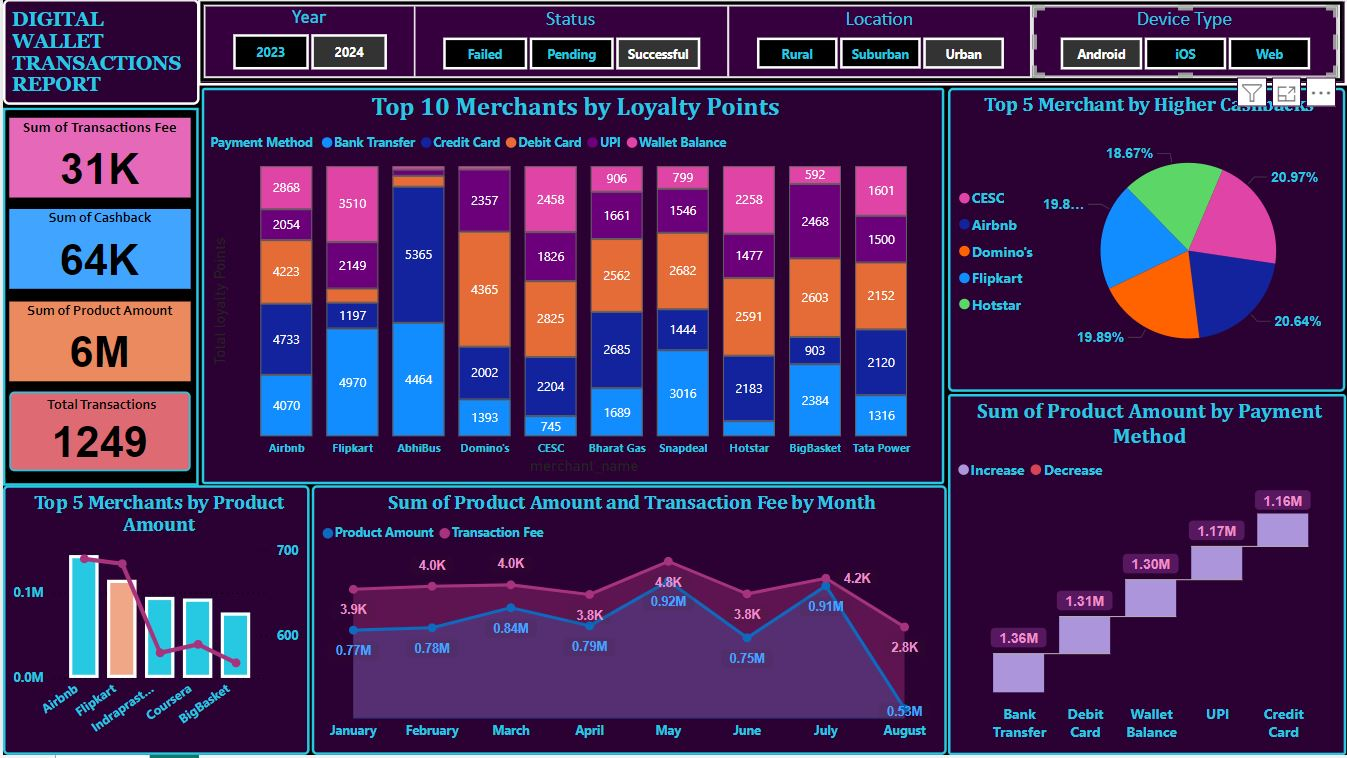

Layout of this report page (visuals, bound fields, positions):
{"tool":"powerbi","page":{"name":"Page 1","canvas":[1280,720],"ordinal":0},"visuals":[{"type":"shape","box":[0,103.3,186.2,360.2],"z":0},{"type":"shape","box":[185.8,0,1094.2,82],"z":1000},{"type":"slicer","title":"Year","fields":{"Values":["digital_wallet_transactions.transaction_date.Variation.Date Hierarchy.Year"]},"box":[192.9,7.1,198,66.7],"z":2000},{"type":"card","title":"Sum of Transactions Fee","fields":{"Values":["Sum(digital_wallet_transactions.transaction_fee)"]},"box":[6,113.1,172.6,76.2],"z":3000},{"type":"textbox","box":[0,0,187,101],"z":4000},{"type":"card","title":"Sum of Cashback","fields":{"Values":["Sum(digital_wallet_transactions.cashback)"]},"box":[5.4,199.8,172.6,76.1],"z":5000},{"type":"card","title":"Sum of Product Amount","fields":{"Values":["Sum(digital_wallet_transactions.product_amount)"]},"box":[5.4,288.1,172.6,76.1],"z":6000},{"type":"slicer","title":"Device Type","fields":{"Values":["digital_wallet_transactions.device_type"]},"box":[981,7.1,289.3,66.7],"z":7000},{"type":"slicer","title":"Location","fields":{"Values":["digital_wallet_transactions.location"]},"box":[691.8,6.8,286.8,66.6],"z":8000},{"type":"slicer","title":"Status","fields":{"Values":["digital_wallet_transactions.transaction_status"]},"box":[392.9,7.1,296.4,66.7],"z":9000},{"type":"lineStackedColumnComboChart","title":"Top 5 Merchants by Product Amount","fields":{"Category":["digital_wallet_transactions.merchant_name"],"Y":["Sum(digital_wallet_transactions.product_amount)"],"Y2":["Sum(digital_wallet_transactions.transaction_fee)"]},"box":[0,463.5,292.2,256.9],"z":10000},{"type":"lineChart","title":"Sum of Product Amount and Transaction Fee by Month","fields":{"Category":["digital_wallet_transactions.transaction_date.Variation.Date Hierarchy.Month"],"Y":["Sum(digital_wallet_transactions.product_amount)"],"Y2":["Sum(digital_wallet_transactions.transaction_fee)"]},"box":[293.6,463.1,605,256.9],"z":11000},{"type":"card","title":"Total Transactions","fields":{"Values":["Count(digital_wallet_transactions.transaction_id)"]},"box":[5.4,373.8,172.6,76.1],"z":12000},{"type":"pieChart","title":"Top 5 Merchant by Higher Cashbacks","fields":{"Category":["digital_wallet_transactions.merchant_name"],"Y":["Sum(digital_wallet_transactions.cashback)"]},"box":[899.7,84.3,378,289.5],"z":13000},{"type":"hundredPercentStackedColumnChart","title":"Top 10 Merchants by Loyalty Points","fields":{"Category":["digital_wallet_transactions.merchant_name"],"Y":["Sum(digital_wallet_transactions.loyalty_points)"],"Series":["digital_wallet_transactions.payment_method"]},"box":[188.9,84.3,707,377.8],"z":14000},{"type":"waterfallChart","title":"Sum of Product Amount by Payment Method","fields":{"Category":["digital_wallet_transactions.payment_method"],"Y":["Sum(digital_wallet_transactions.product_amount)"]},"box":[899.7,376.1,379.2,343.9],"z":15000}]}

Visuals, with their boxes in screenshot pixels (x1, y1, x2, y2), scaled from the page's 1280x720 canvas onto the 1347x758 screenshot:
shape: [x1=0, y1=109, x2=196, y2=488]
shape: [x1=196, y1=0, x2=1346, y2=86]
"Year" slicer: [x1=203, y1=7, x2=411, y2=78]
"Sum of Transactions Fee" card: [x1=6, y1=119, x2=188, y2=199]
textbox: [x1=0, y1=0, x2=197, y2=106]
"Sum of Cashback" card: [x1=6, y1=210, x2=187, y2=290]
"Sum of Product Amount" card: [x1=6, y1=303, x2=187, y2=383]
"Device Type" slicer: [x1=1032, y1=7, x2=1337, y2=78]
"Location" slicer: [x1=728, y1=7, x2=1030, y2=77]
"Status" slicer: [x1=413, y1=7, x2=725, y2=78]
"Top 5 Merchants by Product Amount" lineStackedColumnComboChart: [x1=0, y1=488, x2=307, y2=757]
"Sum of Product Amount and Transaction Fee by Month" lineChart: [x1=309, y1=488, x2=946, y2=757]
"Total Transactions" card: [x1=6, y1=394, x2=187, y2=474]
"Top 5 Merchant by Higher Cashbacks" pieChart: [x1=947, y1=89, x2=1345, y2=394]
"Top 10 Merchants by Loyalty Points" hundredPercentStackedColumnChart: [x1=199, y1=89, x2=943, y2=486]
"Sum of Product Amount by Payment Method" waterfallChart: [x1=947, y1=396, x2=1346, y2=757]
